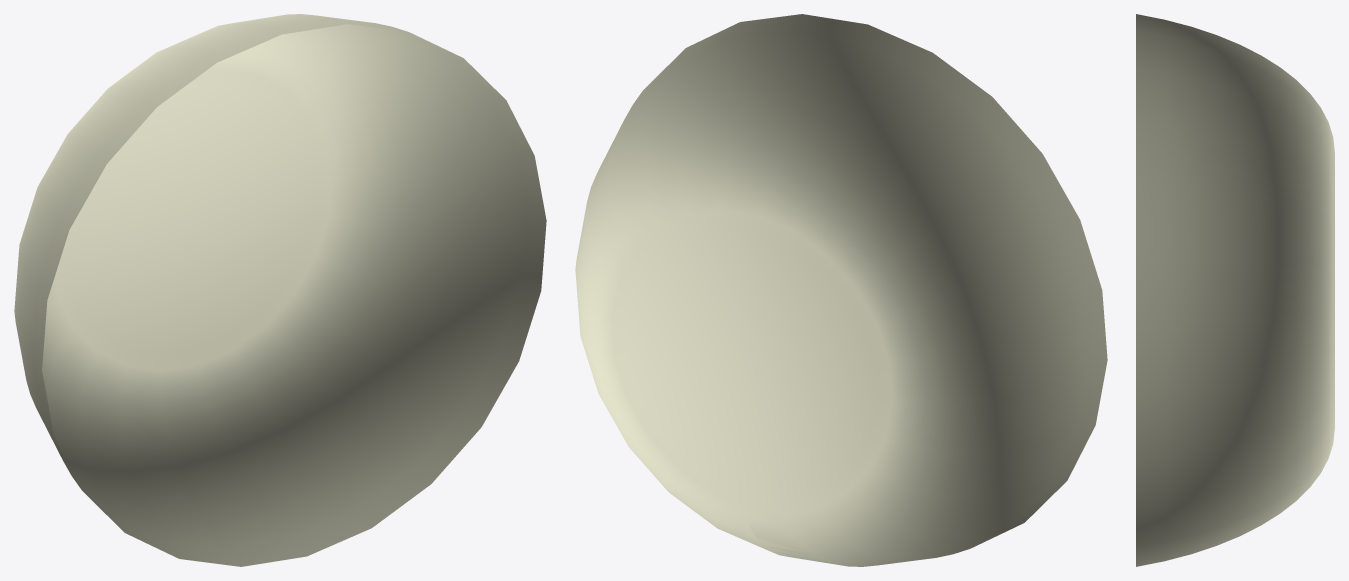
Rendered from model_align.obj.
The picture shows the model from 3 angles, left to right: view 1: azimuth 30°, elevation 25°; view 2: azimuth 150°, elevation 25°; view 3: azimuth 270°, elevation 25°; orthographic projection. The views are drawn at different scales.
Visible parts, largest first — view 1: mesh1_mesh1-geometry; view 2: mesh1_mesh1-geometry; view 3: mesh1_mesh1-geometry.
Part boxes in pixels (x1,y1,x2,y2): mesh1_mesh1-geometry: (14, 14, 546, 566); mesh1_mesh1-geometry: (575, 14, 1107, 566); mesh1_mesh1-geometry: (1136, 14, 1334, 566).
Bounding box in the file's own units: 0.1447 × 0.1447 × 0.0517.
